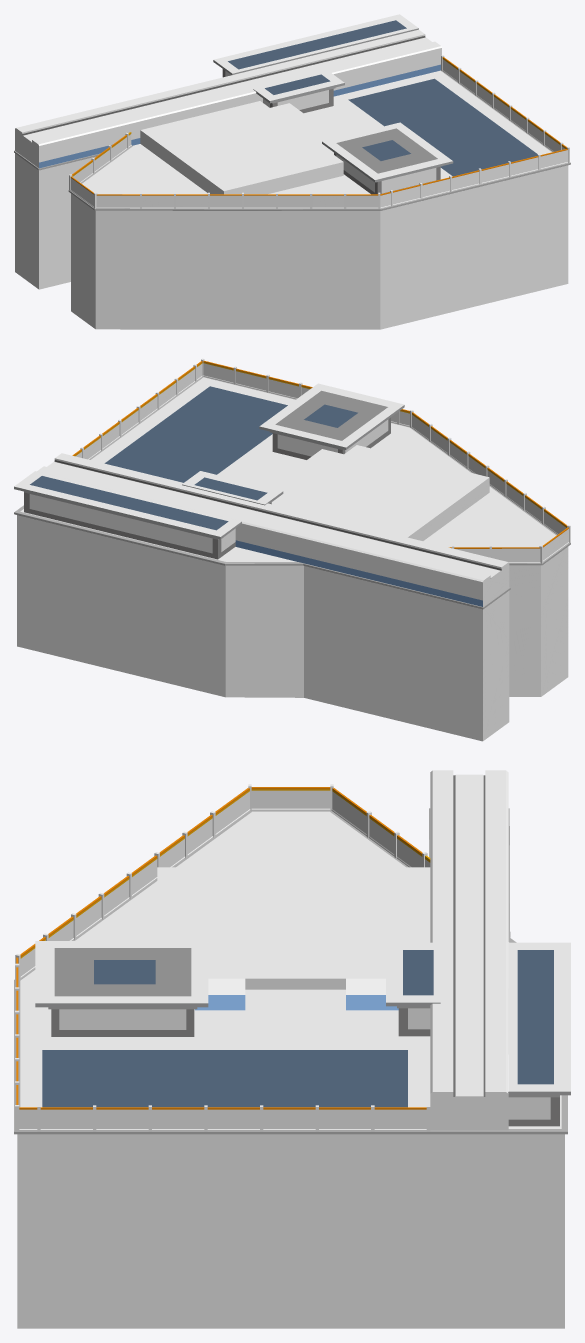
3 renders of one model, top to bottom at view 1: azimuth 30°, elevation 25°; view 2: azimuth 150°, elevation 25°; view 3: azimuth 270°, elevation 25°, orthographic. The views are drawn at different scales.
Parts seen in each view (by area): view 1: SM_I_RoadFacility_Ground_L_15B; view 2: SM_I_RoadFacility_Ground_L_15B; view 3: SM_I_RoadFacility_Ground_L_15B.
Boxes of the visible parts, x1,y1,x2,y2 form: SM_I_RoadFacility_Ground_L_15B: (14,14,570,329); SM_I_RoadFacility_Ground_L_15B: (14,358,570,741); SM_I_RoadFacility_Ground_L_15B: (14,770,570,1328).
Size of the model in its own units: 3739 by 5137 by 1760.
